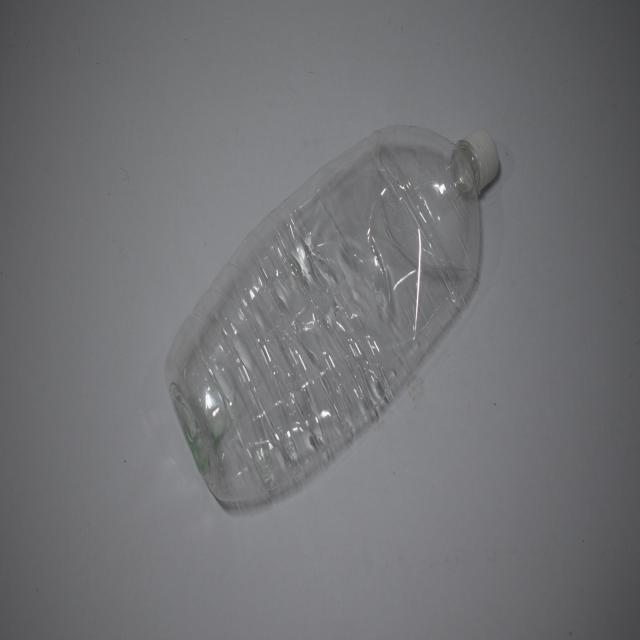bottle: (156, 92, 513, 510)
